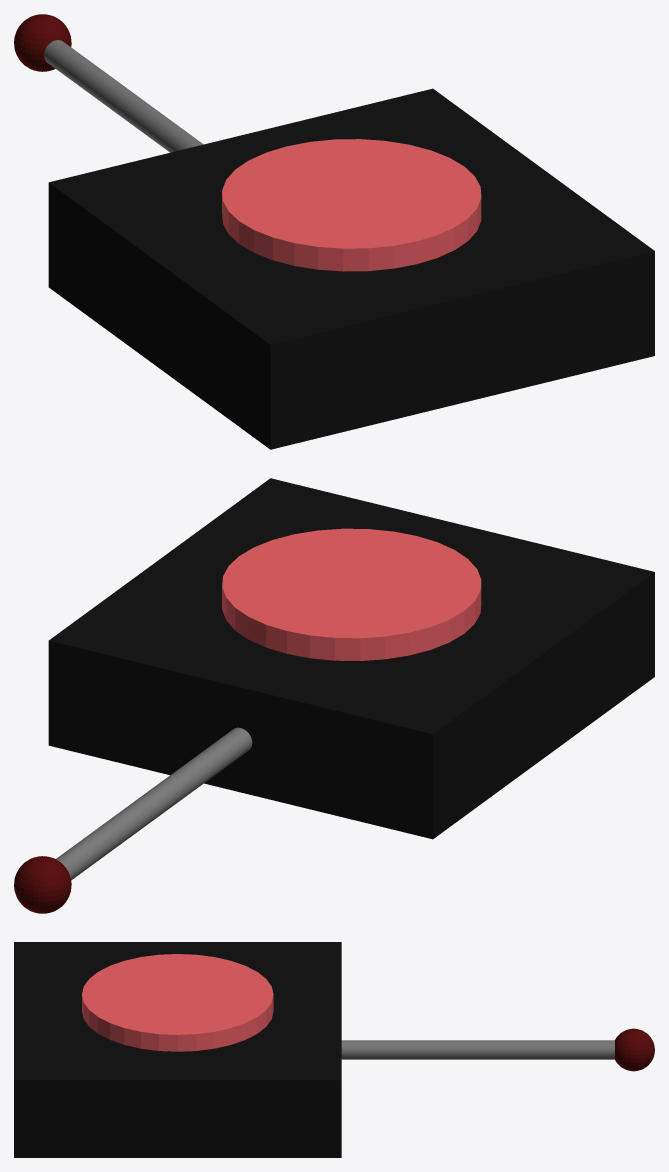
File: Remote.fbx
The picture shows the model from 3 angles, top to bottom: view 1: azimuth 30°, elevation 25°; view 2: azimuth 150°, elevation 25°; view 3: azimuth 270°, elevation 25°; orthographic projection. The views are drawn at different scales.
Visible parts, largest first — view 1: Cube; view 2: Cube; view 3: Cube.
Boxes of the visible parts, x1,y1,x2,y2 form: Cube: (14, 14, 654, 449); Cube: (14, 478, 654, 913); Cube: (14, 942, 654, 1157).
Bounding box in the file's own units: 200 × 63.52 × 391.
